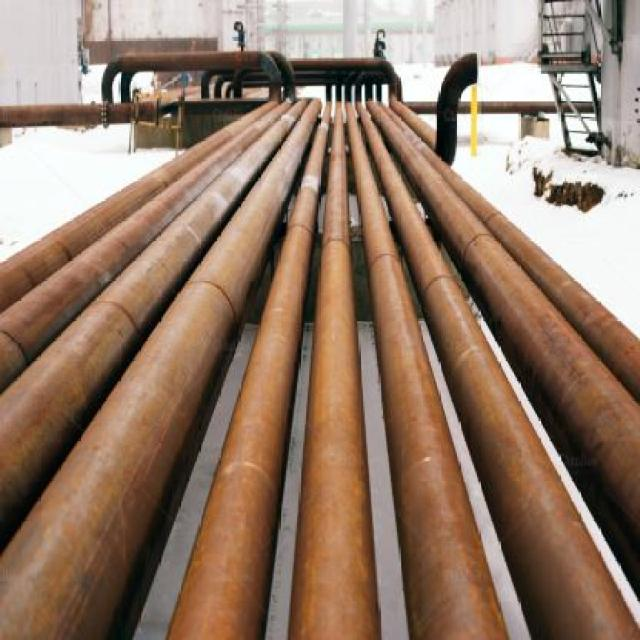corrosion: (1, 38, 640, 639)
